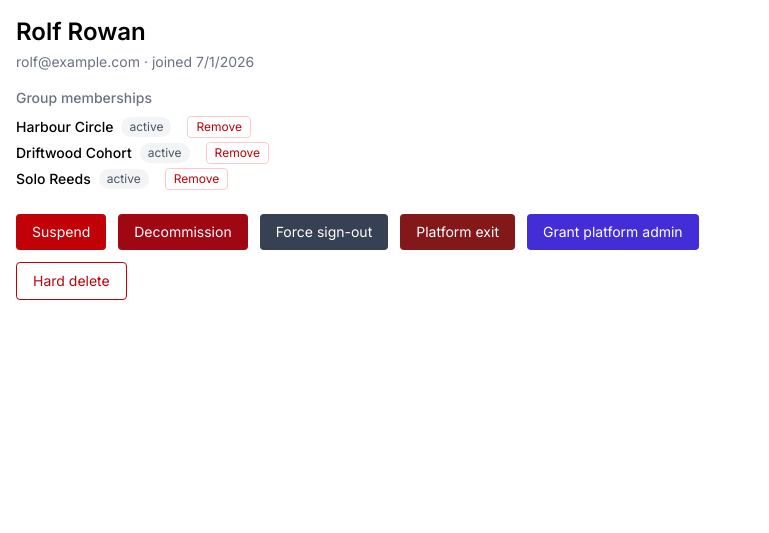
AdminMemberDetail (FEAT-H036 STORY-2..6) › WA-5 guard: a REFUSED hard delete stays on the detail with the reason — never the erased panel
The width and height of the screenshot is (769, 533).
expect the heading "Rolf Rowan" is shown: met, box [16,16,146,48]
Click the button with test id "hard-delete-member" at (71, 281), box [16,262,127,300]
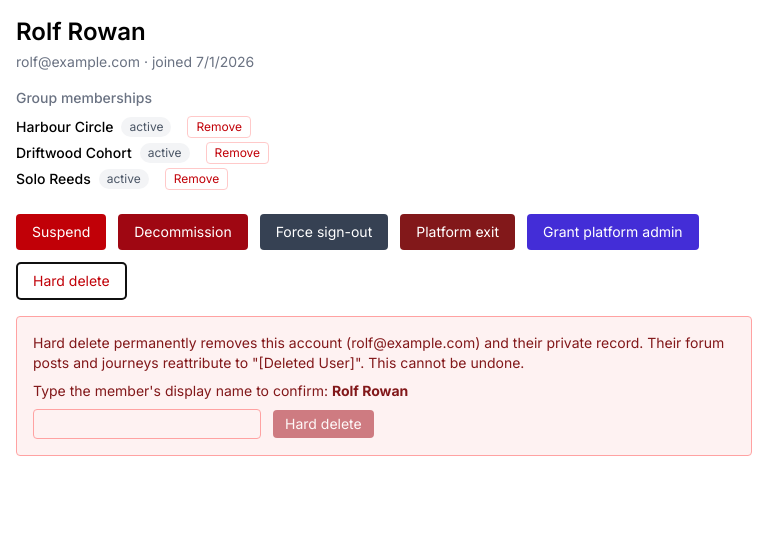
expect the element with test id "hard-delete-panel" is shown: met, box [16,316,752,456]
Type "Rolf Rowan" into the field with test id "hard-delete-input" at (147, 424), box [33,409,261,439]
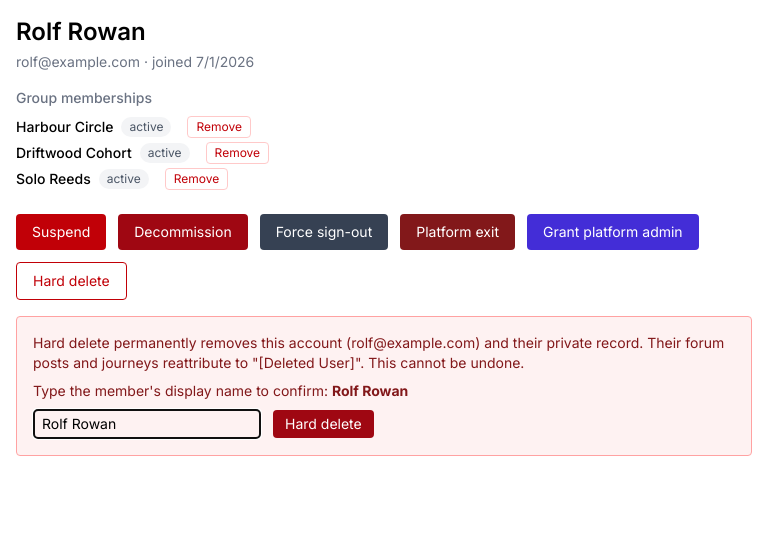
Click the button with test id "hard-delete-confirm" at (323, 424), box [273,410,374,438]
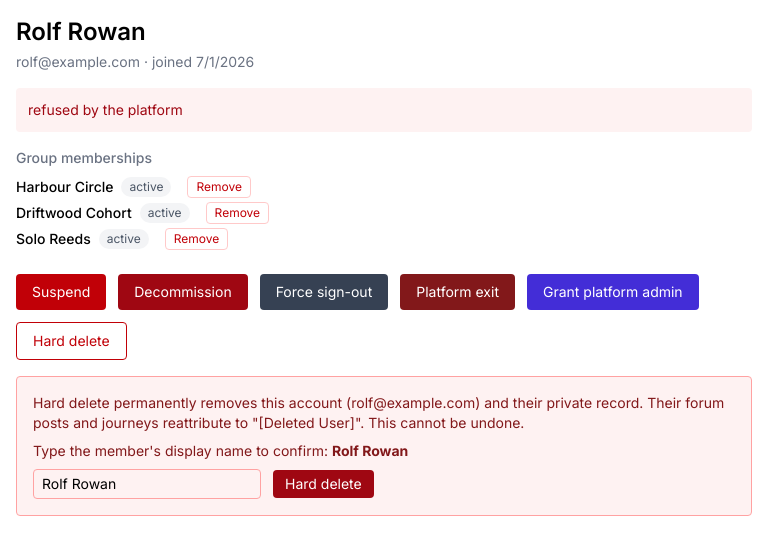
expect the heading "Rolf Rowan" is shown: met, box [16,16,146,48]
expect the text "refused by the platform" is shown: met, box [16,88,752,132]
